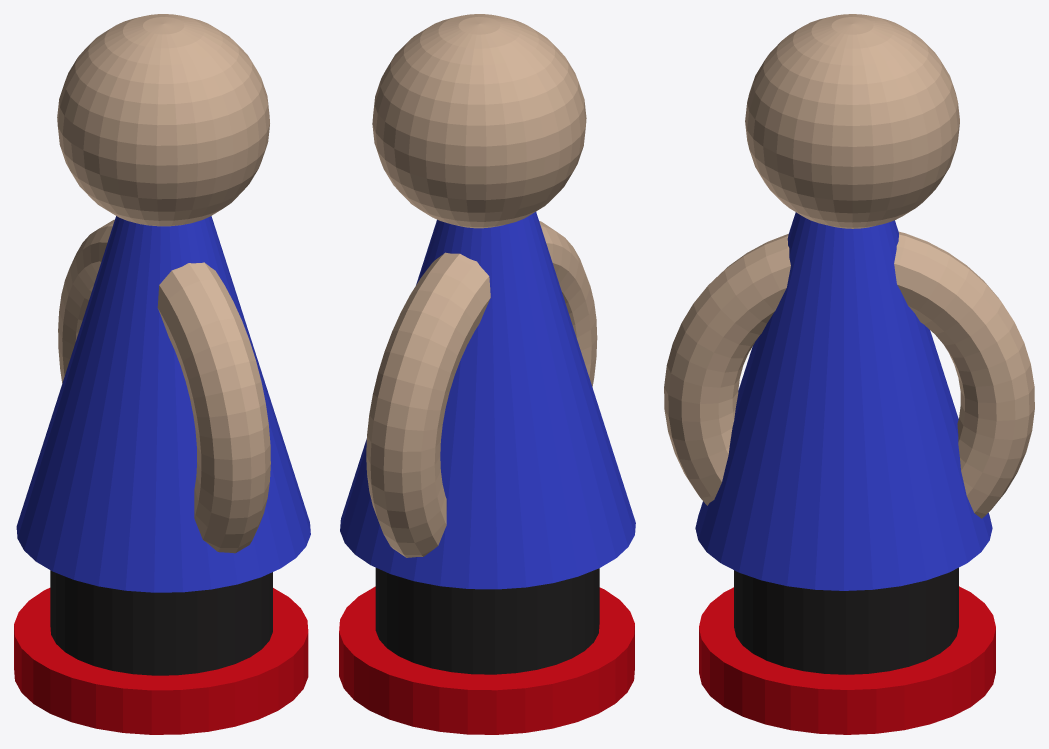
File: passenger.fbx
3 renders of one model, left to right at view 1: azimuth 30°, elevation 25°; view 2: azimuth 150°, elevation 25°; view 3: azimuth 270°, elevation 25°, orthographic.
Parts seen in each view (by area): view 1: Cone, Sphere, Torus, Cylinder.001, Cylinder; view 2: Cone, Sphere, Torus, Cylinder.001, Cylinder; view 3: Cone, Torus, Sphere, Cylinder.001, Cylinder.
Boxes of the visible parts, bbox=[...] form: Cone: bbox=[16, 216, 310, 592]; Sphere: bbox=[57, 14, 269, 226]; Torus: bbox=[58, 219, 270, 553]; Cylinder.001: bbox=[14, 588, 308, 734]; Cylinder: bbox=[50, 570, 272, 675]; Cone: bbox=[340, 212, 635, 589]; Sphere: bbox=[372, 14, 586, 228]; Torus: bbox=[366, 221, 597, 557]; Cylinder.001: bbox=[339, 586, 634, 734]; Cylinder: bbox=[375, 568, 599, 674]; Cone: bbox=[695, 212, 992, 590]; Torus: bbox=[664, 231, 1034, 518]; Sphere: bbox=[745, 14, 959, 228]; Cylinder.001: bbox=[699, 586, 995, 734]; Cylinder: bbox=[734, 567, 958, 674].
Size of the model in its own units: 201 by 483 by 250.
